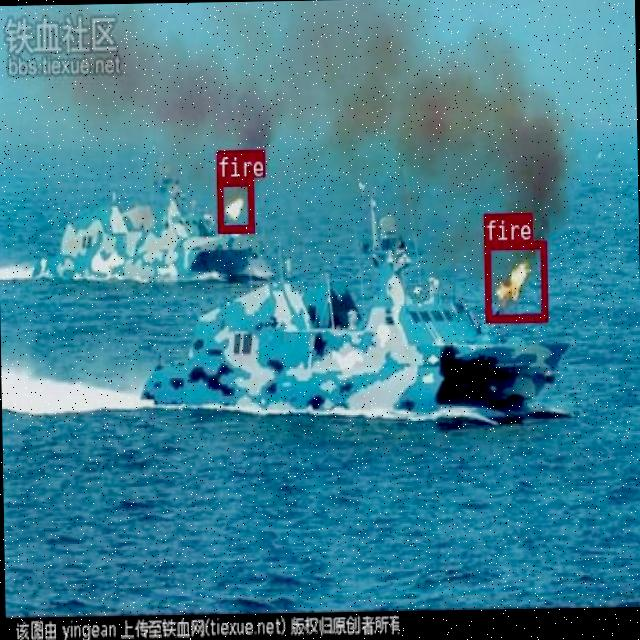fire: (484, 239, 546, 320), (215, 176, 252, 232)
